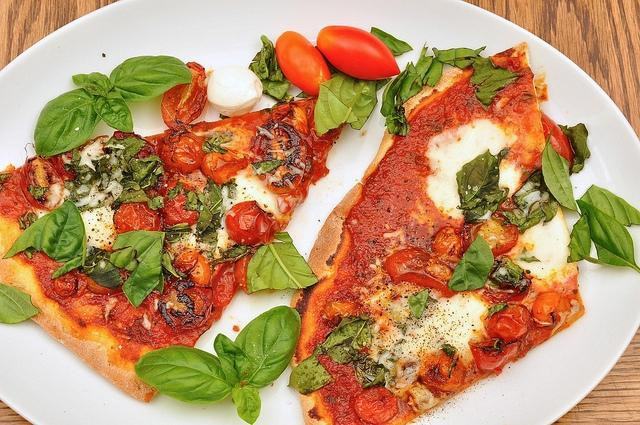tomato: (316, 26, 401, 80), (384, 247, 459, 298), (276, 30, 332, 96), (160, 62, 208, 130), (158, 280, 214, 334), (460, 212, 520, 258), (19, 154, 65, 212), (226, 200, 280, 246), (540, 108, 574, 170), (158, 130, 204, 175), (157, 180, 200, 226), (420, 351, 468, 392), (486, 303, 532, 343), (468, 336, 522, 370), (354, 386, 398, 424), (112, 202, 164, 234), (202, 150, 248, 185), (266, 101, 308, 136), (173, 252, 211, 286), (210, 261, 238, 307), (532, 292, 562, 327), (430, 226, 458, 256), (234, 254, 254, 296), (86, 276, 124, 295), (266, 175, 302, 194)
